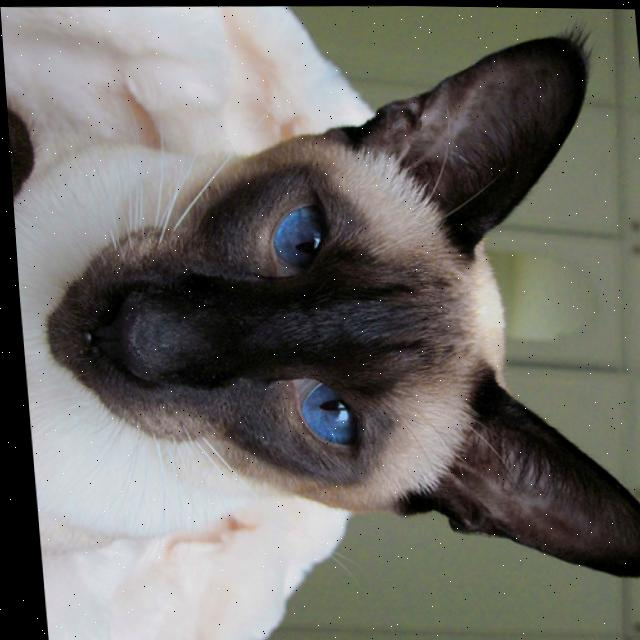Siamese: (1, 18, 640, 588)
